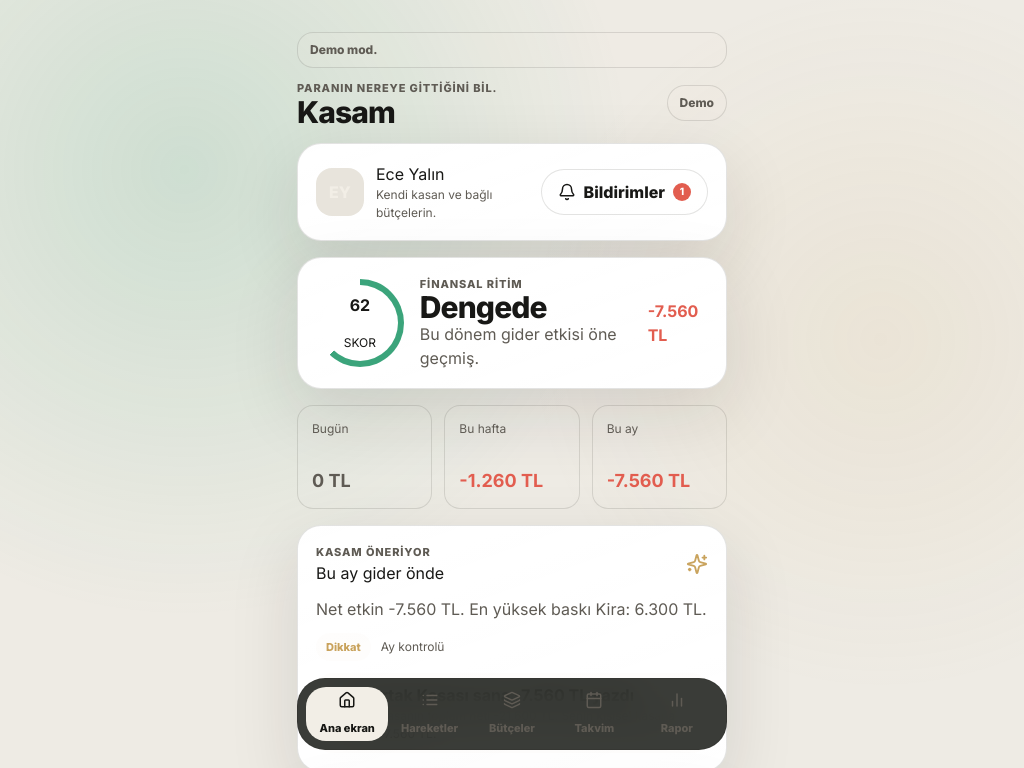
Scenario: Kasam commercial UI › prediction feedback animates selected media before reveal
Click the button "Hareketler": (430, 714) [388,687,471,741]
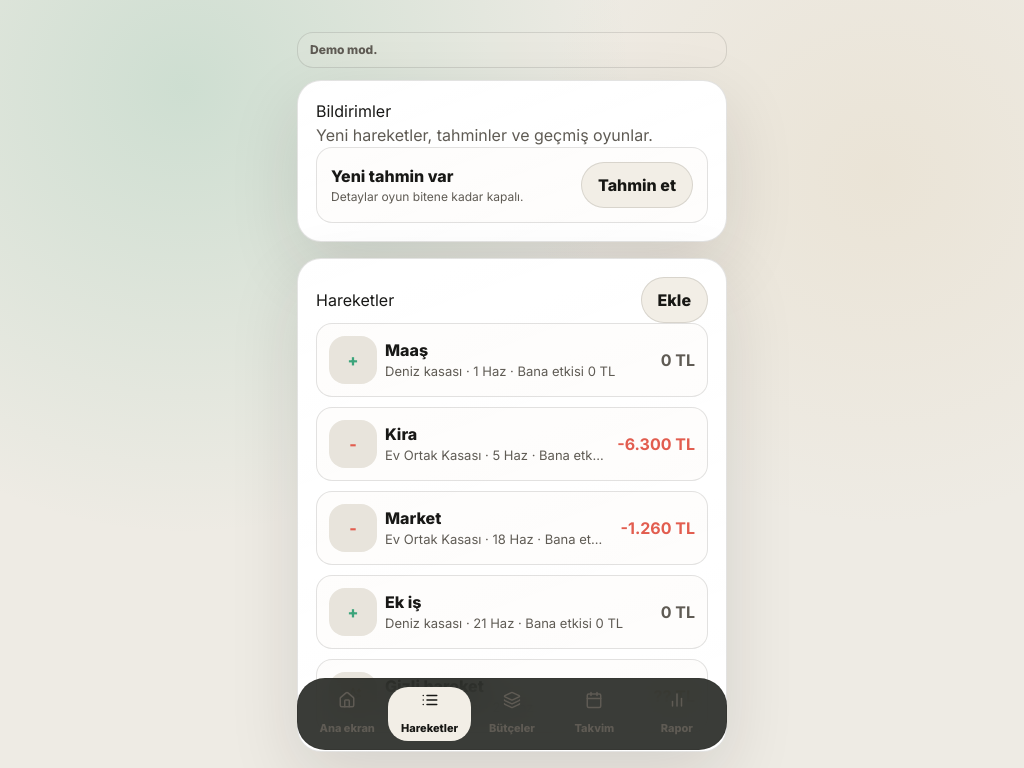
Click the button "Tahmin et": (637, 185) [581,162,693,208]
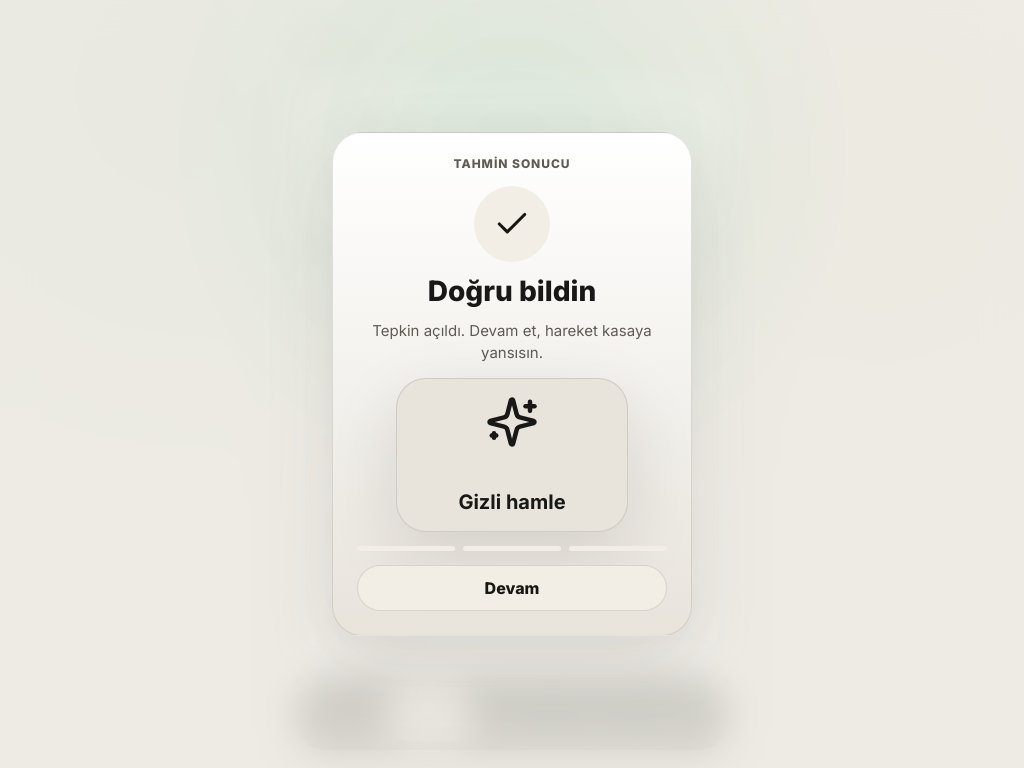
Now the dialog "Tahmin sonucu" is shown
Now the heading "Doğru bildin" is shown, box [428,276,596,306]
Now the element with test id "guess-reaction-media" is shown, box [396,378,628,532]
Click the button "Devam": (512, 588) [357,565,667,611]
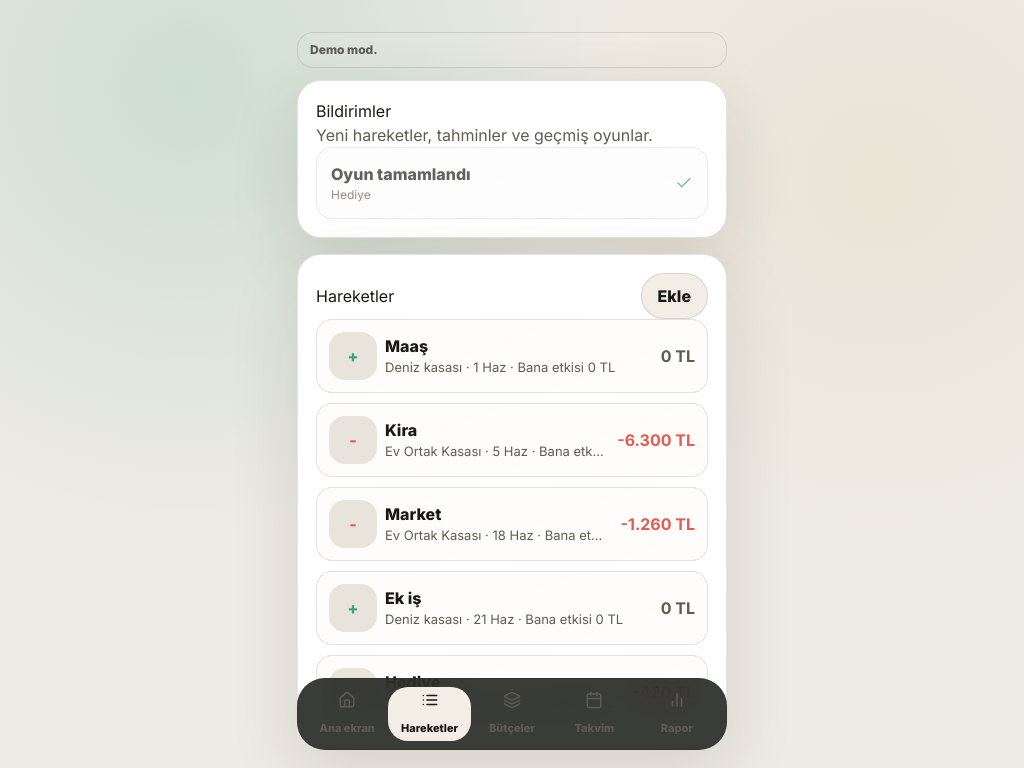
Now the text "Tahmin sonucu" is gone
